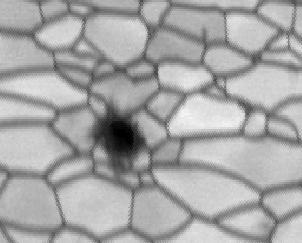good_void: (86, 98, 152, 178)
